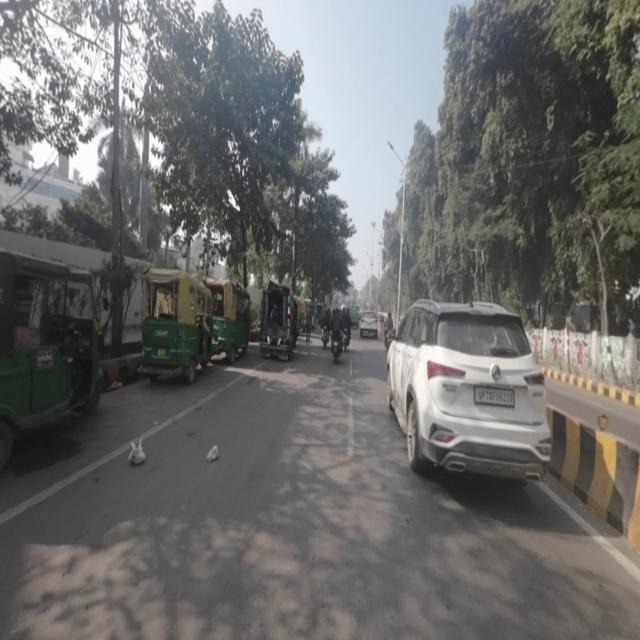Garbage: (123, 436, 150, 469), (204, 437, 224, 471)
